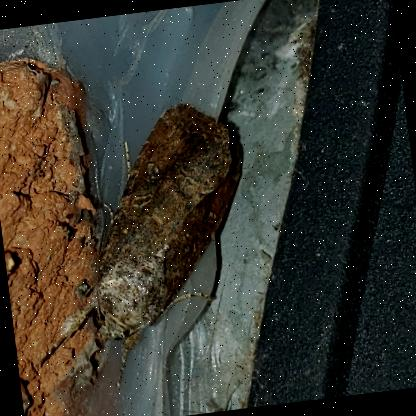Fall Armyworm Moth: (6, 91, 274, 400)
